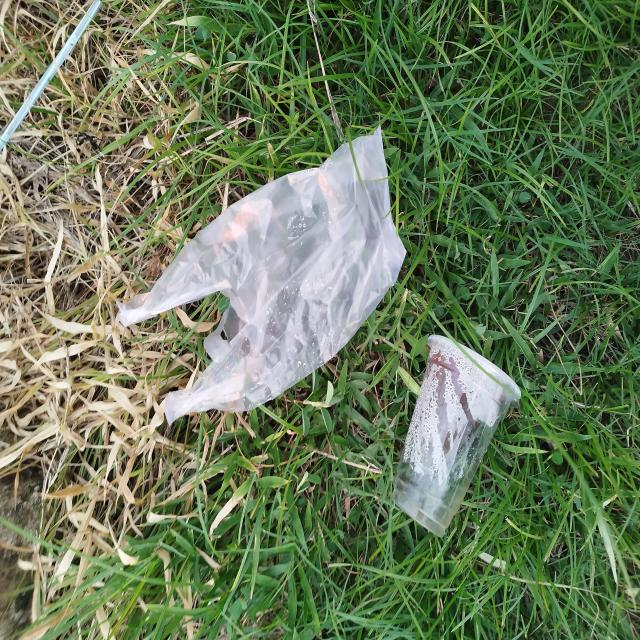bag: (115, 124, 408, 428)
drinking straw: (0, 0, 102, 151)
plastic glass: (390, 334, 522, 540)
